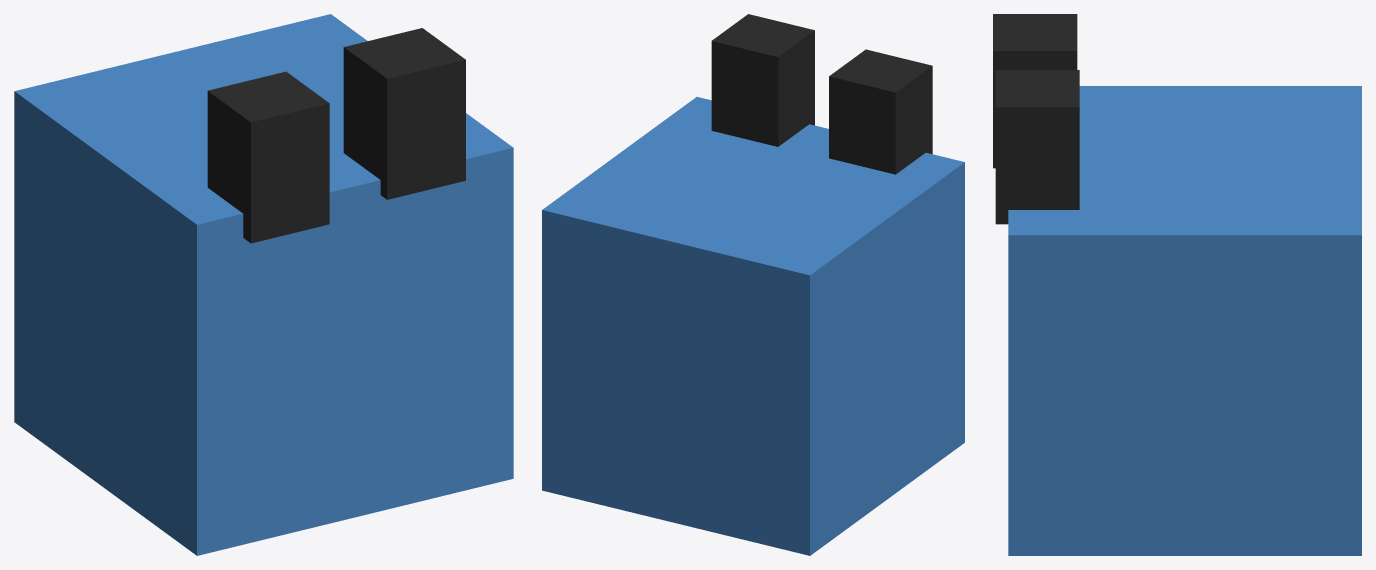
The model's file is slime.fbx.
3 views of the same model, side by side, from view 1: azimuth 30°, elevation 25°; view 2: azimuth 150°, elevation 25°; view 3: azimuth 270°, elevation 25° (orthographic). The views are drawn at different scales.
Parts seen in each view (by area): view 1: 立方体, 立方体.002, 立方体.001; view 2: 立方体, 立方体.002, 立方体.001; view 3: 立方体, 立方体.002, 立方体.001.
Part boxes in pixels (x1,y1,x2,y2): 立方体: (14,14,513,555); 立方体.002: (343,28,465,199); 立方体.001: (207,71,329,243); 立方体: (542,97,964,555); 立方体.002: (711,14,814,146); 立方体.001: (829,49,932,174); 立方体: (1008,86,1361,555); 立方体.002: (995,70,1079,224); 立方体.001: (993,14,1077,168).
Size of the model in its own units: 50 by 66.02 by 52.14.
